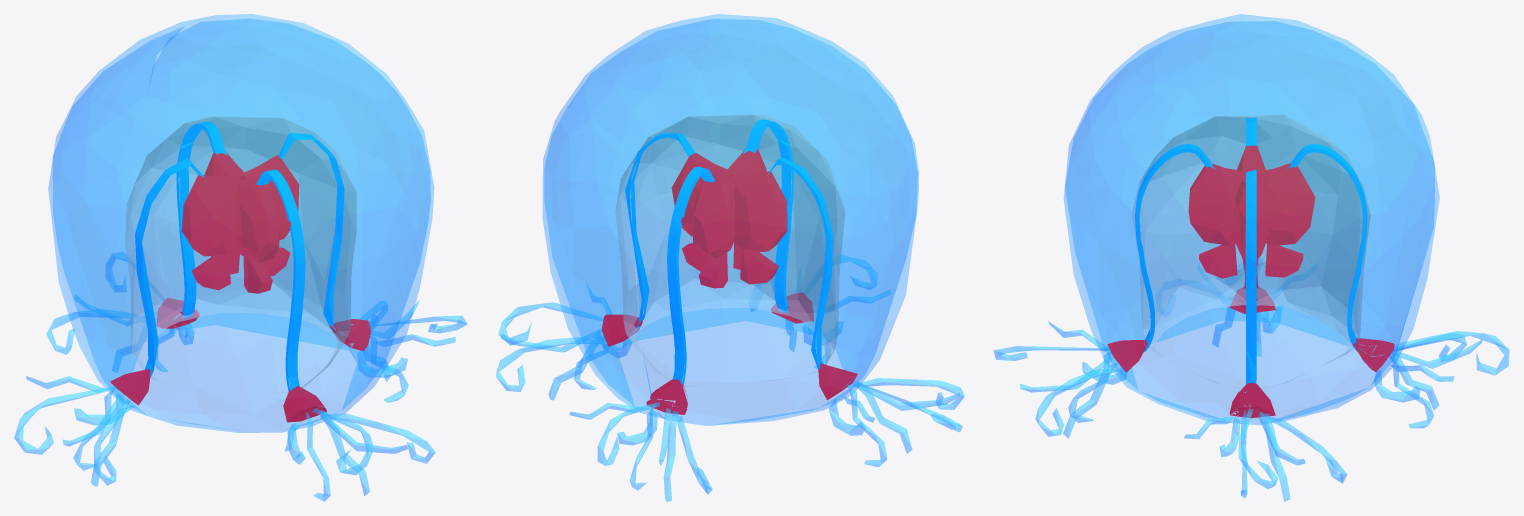
Rendered from jellyfish.glb.
3 views of the same model, side by side, from view 1: azimuth 30°, elevation 25°; view 2: azimuth 150°, elevation 25°; view 3: azimuth 270°, elevation 25° (orthographic). The views are drawn at different scales.
Visible parts, largest first — view 1: Outer_Dome.Shape_5; view 2: Outer_Dome.Shape_5; view 3: Outer_Dome.Shape_5.
Part boxes in pixels (box(x1,y1,x2,y2)): Outer_Dome.Shape_5: box(14, 14, 467, 501); Outer_Dome.Shape_5: box(496, 14, 964, 501); Outer_Dome.Shape_5: box(993, 14, 1509, 501).
Bounding box in the file's own units: 568 × 485 × 572.
